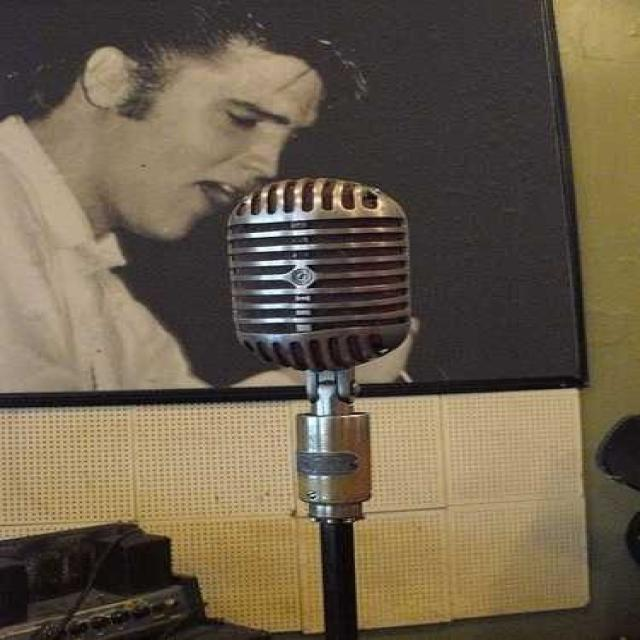microphone: (226, 178, 410, 378)
